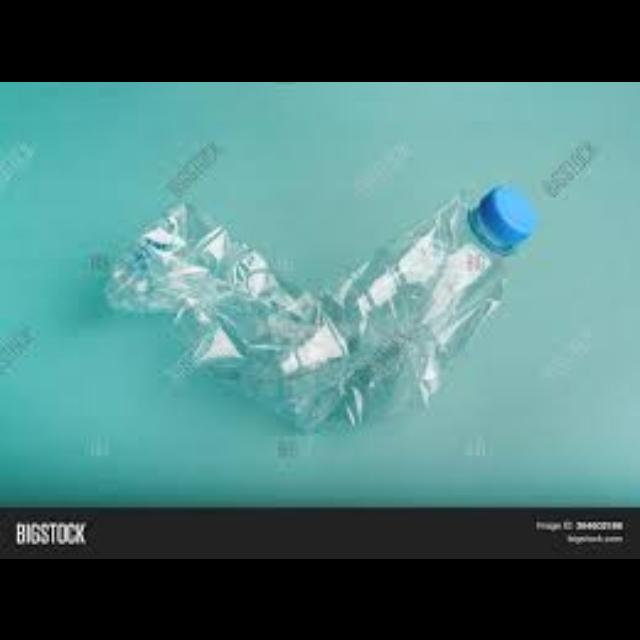trash: (100, 168, 544, 438)
